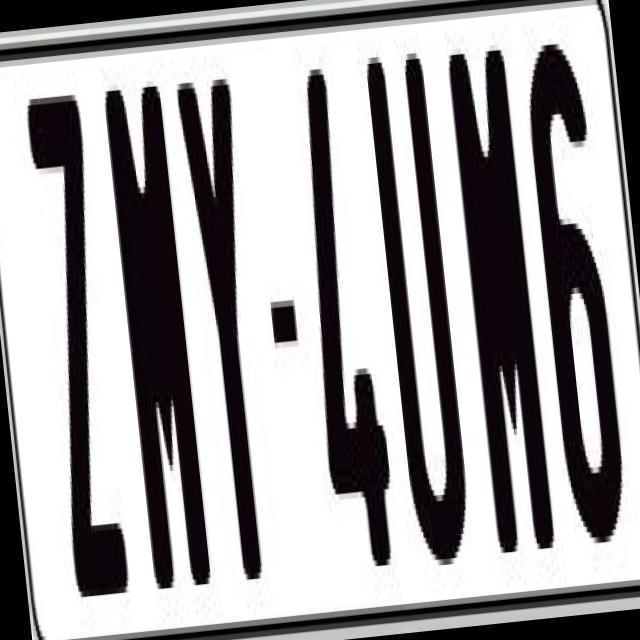4: (282, 48, 404, 558)
6: (518, 40, 635, 562)
M: (96, 67, 215, 584), (445, 49, 555, 570)
U: (360, 52, 483, 602)
Y: (176, 78, 290, 616)
Z: (24, 87, 142, 620)
